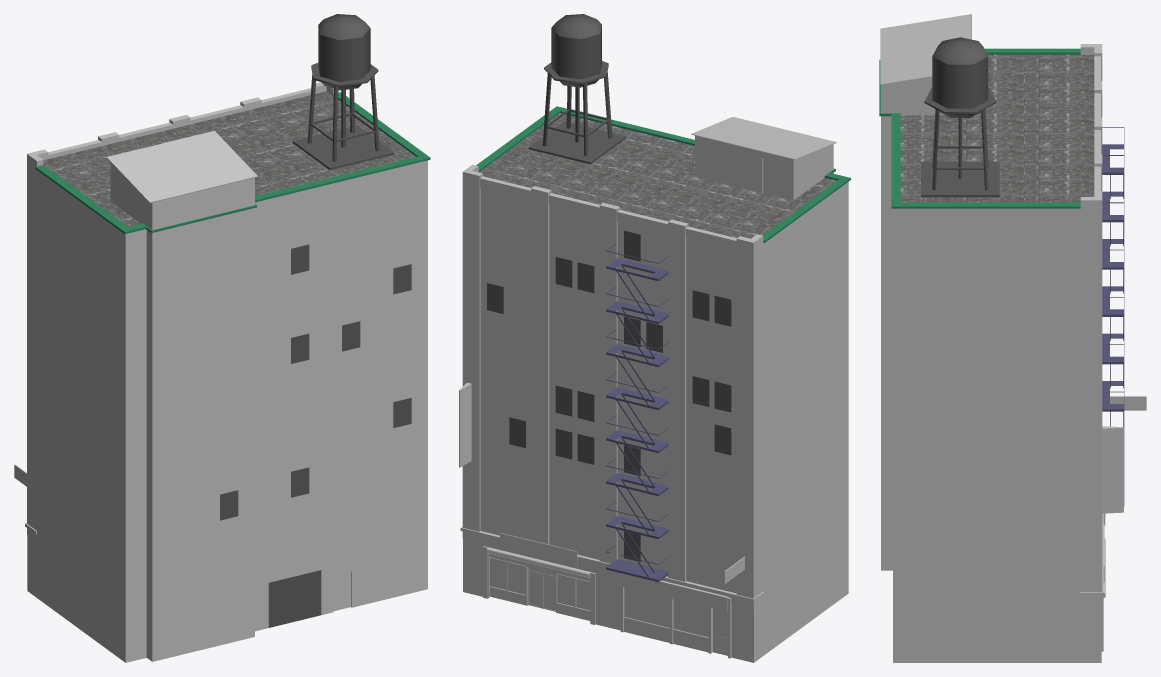
Rendered from mcp_building_19_LOD_1.FBX.
The picture shows the model from 3 angles, left to right: view 1: azimuth 30°, elevation 25°; view 2: azimuth 150°, elevation 25°; view 3: azimuth 270°, elevation 25°; orthographic projection. The views are drawn at different scales.
Visible parts, largest first — view 1: mcp_building_19_walls, mcp_building_19, mcp_building_19_roof, mcp_building_19_props_01, mcp_building_19_metal_roof, mcp_building_19_concrete, mcp_building_19_doors; view 2: mcp_building_19_walls, mcp_building_19, mcp_building_19_roof, mcp_building_19_props_01, mcp_building_19_metal_roof, mcp_building_19_concrete, mcp_building_19_doors; view 3: mcp_building_19_walls, mcp_building_19_roof, mcp_building_19_props_01, mcp_building_19_metal_roof, mcp_building_19_concrete, mcp_building_19.
Part boxes in pixels (bbox=[...]): mcp_building_19_walls: bbox=[25, 82, 427, 662]; mcp_building_19: bbox=[14, 175, 411, 565]; mcp_building_19_roof: bbox=[43, 91, 415, 226]; mcp_building_19_props_01: bbox=[268, 14, 394, 627]; mcp_building_19_metal_roof: bbox=[106, 131, 257, 203]; mcp_building_19_concrete: bbox=[35, 92, 430, 233]; mcp_building_19_doors: bbox=[333, 572, 350, 610]; mcp_building_19_walls: bbox=[460, 135, 848, 662]; mcp_building_19: bbox=[459, 197, 744, 658]; mcp_building_19_roof: bbox=[479, 113, 836, 238]; mcp_building_19_props_01: bbox=[528, 14, 668, 582]; mcp_building_19_metal_roof: bbox=[691, 117, 836, 159]; mcp_building_19_concrete: bbox=[476, 106, 850, 242]; mcp_building_19_doors: bbox=[763, 158, 779, 195]; mcp_building_19_walls: bbox=[881, 44, 1103, 662]; mcp_building_19_roof: bbox=[900, 54, 1094, 202]; mcp_building_19_props_01: bbox=[921, 37, 1124, 505]; mcp_building_19_metal_roof: bbox=[880, 14, 971, 85]; mcp_building_19_concrete: bbox=[879, 48, 1080, 208]; mcp_building_19: bbox=[1101, 396, 1146, 651].
Bounding box in the file's own units: 2582 × 4526 × 1846.
